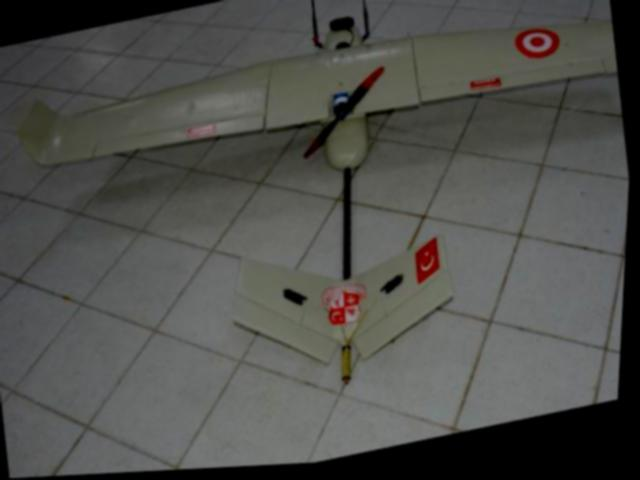iha: (0, 0, 640, 450)
